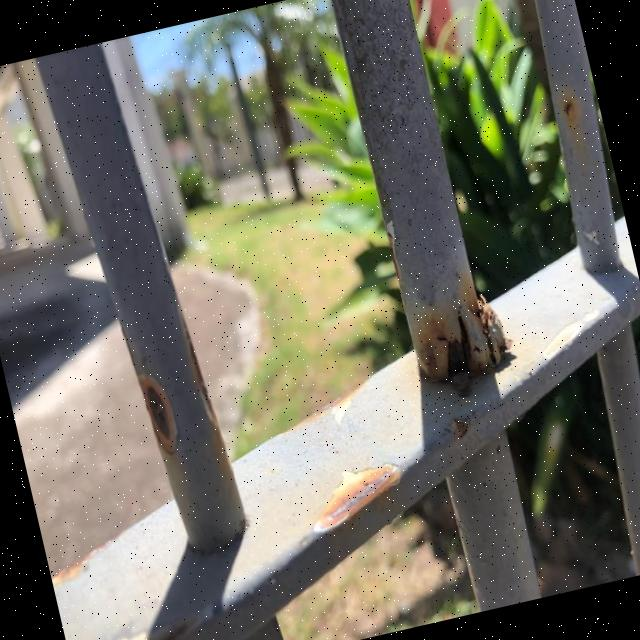Corrosion: (325, 0, 513, 390), (301, 456, 408, 534)
